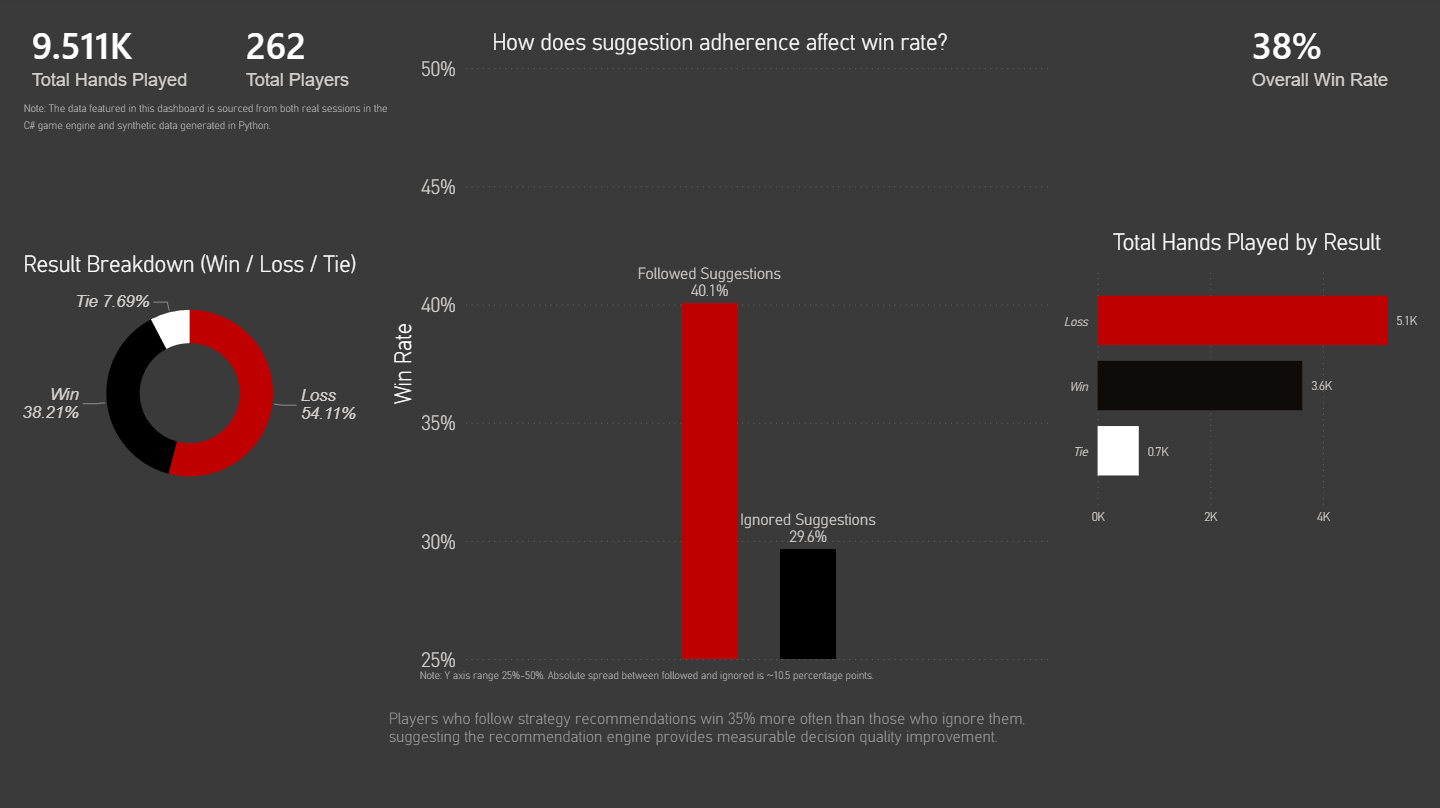

The dashboard page shown, as its layout file describes it:
{"tool":"powerbi","page":{"name":"Overview","canvas":[1280,720],"ordinal":0},"visuals":[{"type":"cardVisual","fields":{"Data":["CountNonNull(GameSessions.RecordID)"]},"box":[0,0,368.2,98.2],"z":0},{"type":"cardVisual","fields":{"Data":["Count(GameSessions.PlayerID)"]},"box":[190,0,150.9,98.2],"z":1000},{"type":"cardVisual","fields":{"Data":["GameSessions.Win Rate"]},"box":[1081.8,0,198.2,98.2],"z":2000},{"type":"donutChart","title":"Result Breakdown (Win / Loss / Tie)","fields":{"Category":["GameSessions.Result"],"Y":["CountNonNull(GameSessions.RecordID)"]},"box":[2.7,223.6,332.7,229.1],"z":3000},{"type":"clusteredBarChart","title":"Total Hands Played by Result","fields":{"Category":["GameSessions.Result"],"Y":["CountNonNull(GameSessions.RecordID)"]},"box":[938.2,203.6,336.4,269.1],"z":4000},{"type":"clusteredColumnChart","title":"How does suggestion adherence affect win rate?","fields":{"Y":["GameSessions.Win Rate Followed","GameSessions.Win Rate Ignored"]},"box":[340.9,20.9,597.3,580.9],"z":6000},{"type":"textbox","box":[340.9,625.5,597.3,50.9],"z":7000},{"type":"textbox","box":[368.2,586.4,419.1,39.1],"z":7001},{"type":"textbox","box":[17.3,83.6,333.6,43.6],"z":7002}]}

Visuals, with their boxes in screenshot pixels (x1, y1, x2, y2), scaled from the page's 1280x720 canvas onto the 1440x808 screenshot:
cardVisual - CountNonNull(GameSessions.RecordID): detection(0, 0, 414, 110)
cardVisual - Count(GameSessions.PlayerID): detection(214, 0, 384, 110)
cardVisual - GameSessions.Win Rate: detection(1217, 0, 1439, 110)
"Result Breakdown (Win / Loss / Tie)" donutChart: detection(3, 251, 377, 508)
"Total Hands Played by Result" clusteredBarChart: detection(1055, 228, 1434, 530)
"How does suggestion adherence affect win rate?" clusteredColumnChart: detection(384, 23, 1055, 675)
textbox: detection(384, 702, 1055, 759)
textbox: detection(414, 658, 886, 702)
textbox: detection(19, 94, 395, 143)
